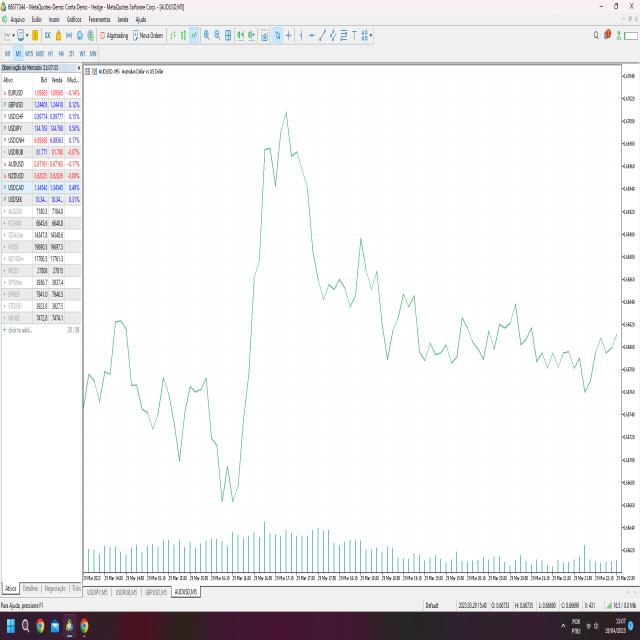fundo_duplo: (209, 432, 248, 513)
oco: (252, 96, 321, 232)
